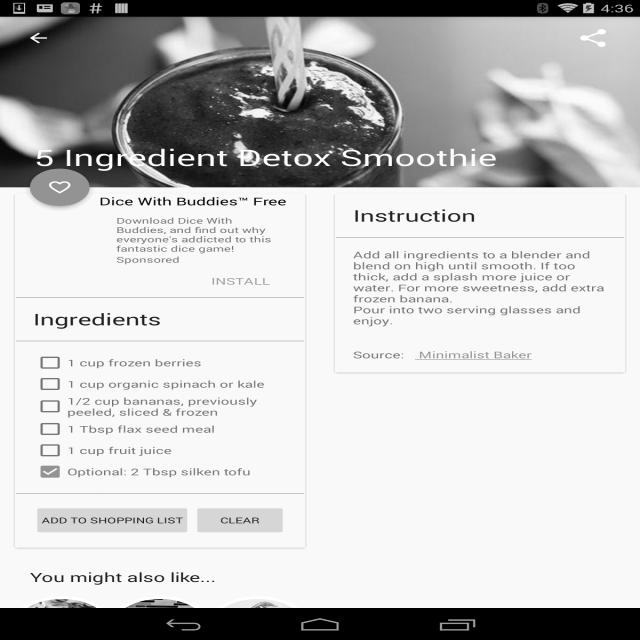Button: (31, 504, 192, 536), (196, 503, 286, 536)
CheckBox: (31, 461, 66, 482), (34, 352, 70, 372), (36, 394, 65, 416), (34, 439, 65, 457)
ImageButton: (27, 168, 91, 208), (570, 23, 614, 49), (21, 27, 63, 45)
TextView: (353, 249, 612, 339), (100, 190, 297, 267), (35, 141, 507, 165), (20, 301, 178, 332), (350, 200, 494, 227)
